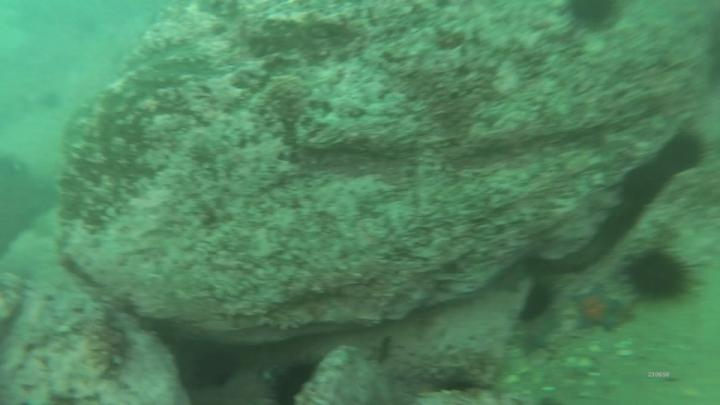echinus: (627, 248, 691, 306), (273, 359, 322, 405), (519, 281, 552, 322)
starfish: (569, 279, 629, 335)
